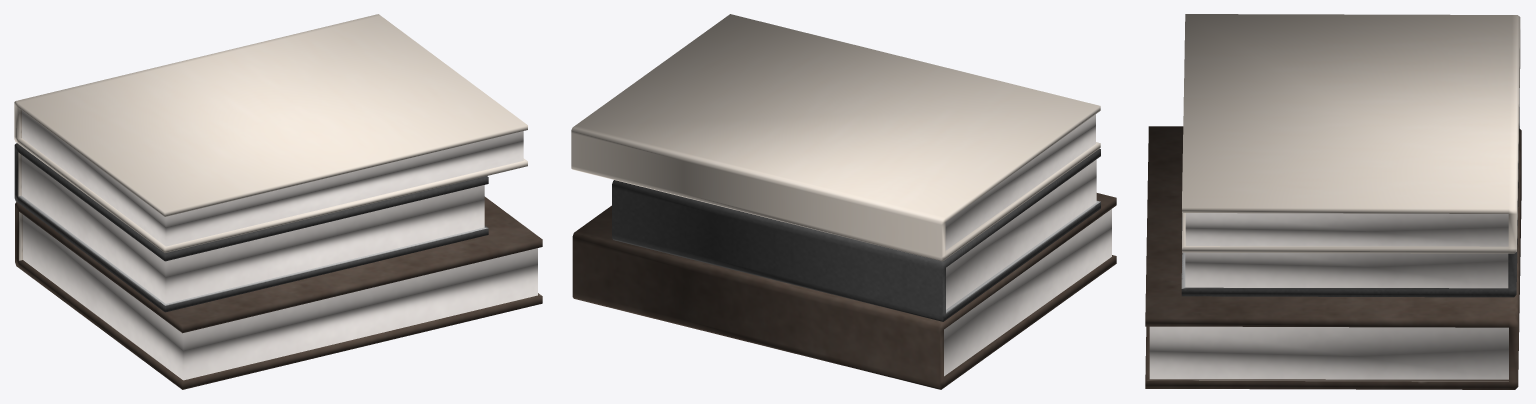
The model's file is Shelf_props_3books.fbx.
The picture shows the model from 3 angles, left to right: view 1: azimuth 30°, elevation 25°; view 2: azimuth 150°, elevation 25°; view 3: azimuth 270°, elevation 25°; orthographic projection. The views are drawn at different scales.
Parts seen in each view (by area): view 1: Cylinder.020; view 2: Cylinder.020; view 3: Cylinder.020.
Boxes of the visible parts, box(x1,y1,x2,y2) form: Cylinder.020: box(14, 14, 542, 389); Cylinder.020: box(571, 14, 1116, 389); Cylinder.020: box(1145, 14, 1521, 389).
Bounding box in the file's own units: 26.23 × 11.43 × 21.39.
